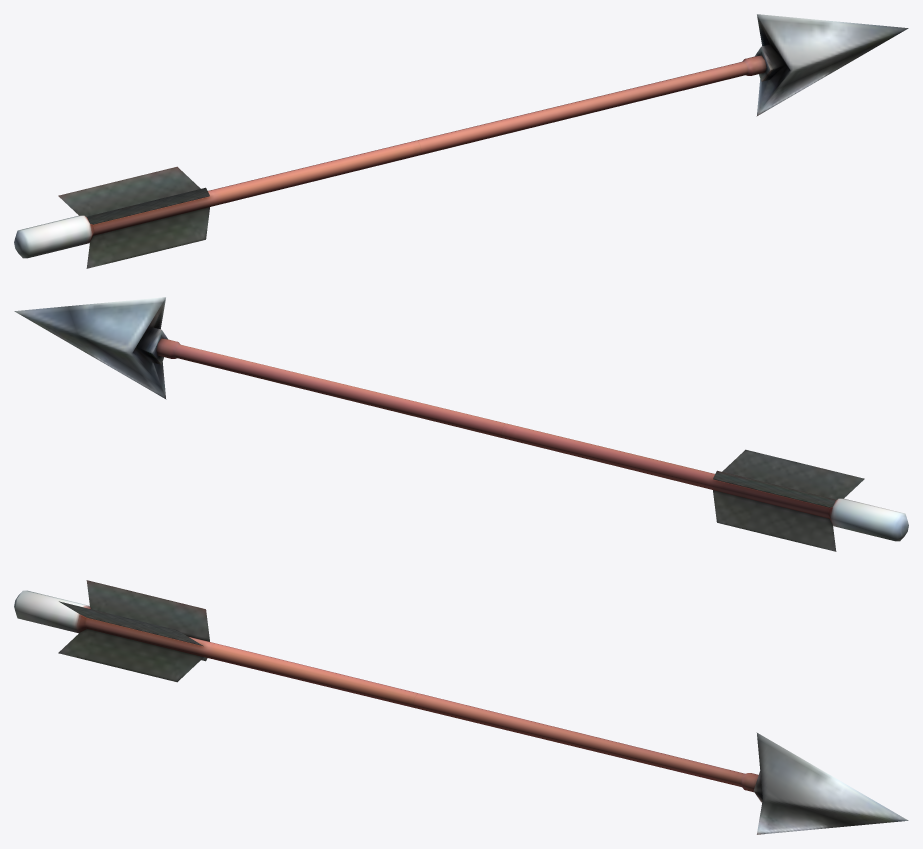
The model's file is arrow.glb.
3 renders of one model, top to bottom at view 1: azimuth 30°, elevation 25°; view 2: azimuth 150°, elevation 25°; view 3: azimuth 330°, elevation 25°, orthographic.
Parts seen in each view (by area): view 1: Cylinder.002; view 2: Cylinder.002; view 3: Cylinder.002.
Boxes of the visible parts, x1,y1,x2,y2 form: Cylinder.002: (14,14,908,268); Cylinder.002: (14,297,908,551); Cylinder.002: (14,580,908,834).
Bounding box in the file's own units: 8.52 × 0.9363 × 0.4759.
1 material, 1 textured.
